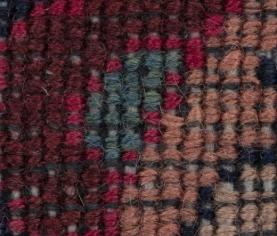Knot: (211, 204, 238, 223), (137, 145, 161, 164), (121, 16, 144, 35), (216, 145, 237, 164), (136, 168, 158, 186), (61, 146, 82, 164), (26, 20, 48, 37), (220, 48, 242, 65), (201, 16, 220, 35), (47, 16, 66, 35), (160, 127, 180, 145), (83, 41, 103, 59), (120, 105, 139, 123), (43, 91, 62, 109), (237, 128, 257, 145), (179, 145, 200, 161), (257, 127, 275, 145), (82, 168, 100, 186), (24, 57, 42, 75), (144, 52, 163, 69), (238, 164, 257, 181), (160, 166, 180, 182), (42, 130, 62, 146), (64, 75, 84, 91), (43, 59, 63, 75), (219, 75, 240, 90), (142, 90, 160, 107), (23, 76, 41, 93), (82, 189, 99, 207), (217, 164, 235, 181), (47, 39, 64, 57), (63, 93, 82, 109), (118, 207, 137, 223), (159, 207, 179, 222), (163, 17, 180, 34), (197, 168, 214, 185), (184, 124, 201, 141), (83, 130, 101, 146), (142, 71, 160, 87), (6, 196, 24, 212), (238, 204, 257, 219), (161, 183, 180, 198), (118, 134, 137, 149), (242, 19, 261, 34), (121, 90, 140, 105), (67, 23, 86, 38), (137, 187, 157, 201), (218, 189, 238, 203), (224, 16, 241, 32), (10, 21, 26, 38), (102, 21, 119, 37), (45, 111, 62, 127), (122, 71, 139, 87), (219, 128, 236, 144), (84, 111, 101, 127), (63, 212, 79, 229), (64, 112, 82, 127), (41, 219, 59, 234), (122, 56, 140, 71), (240, 34, 258, 49), (160, 146, 179, 160), (221, 35, 240, 49), (259, 107, 275, 123), (103, 75, 119, 91), (164, 53, 180, 69), (102, 187, 118, 203), (260, 204, 276, 220), (185, 86, 201, 102), (239, 89, 255, 105), (102, 130, 118, 146), (26, 166, 42, 182), (5, 107, 21, 123), (64, 130, 81, 145), (7, 219, 24, 234), (142, 127, 159, 142), (162, 94, 179, 109), (160, 112, 177, 127), (240, 108, 257, 123), (220, 90, 237, 105), (4, 175, 21, 190), (220, 108, 237, 123), (66, 53, 83, 68), (261, 69, 276, 86), (47, 75, 64, 90), (119, 186, 133, 204), (41, 189, 59, 203), (239, 220, 257, 234), (21, 111, 40, 124), (203, 107, 218, 123), (186, 69, 201, 85), (143, 111, 159, 126), (24, 94, 40, 109), (199, 149, 215, 164), (145, 16, 161, 31), (102, 149, 118, 164), (242, 53, 258, 68), (187, 52, 202, 68), (62, 196, 78, 211), (179, 207, 195, 222), (105, 37, 121, 52), (182, 1, 197, 17), (5, 123, 20, 139), (86, 60, 102, 75), (102, 112, 118, 127), (163, 35, 180, 49), (203, 35, 220, 49), (202, 127, 216, 144), (202, 89, 217, 104), (8, 57, 23, 72), (197, 186, 212, 201), (260, 149, 275, 164), (101, 211, 116, 226), (142, 208, 157, 223), (186, 105, 201, 120), (83, 212, 98, 227), (87, 94, 102, 109), (25, 197, 40, 212), (25, 219, 40, 234), (184, 35, 199, 50), (261, 54, 276, 69), (104, 57, 120, 71), (145, 35, 161, 49), (27, 38, 43, 52), (66, 1, 82, 15), (260, 35, 276, 49), (23, 126, 40, 139), (87, 76, 101, 91), (49, 1, 64, 15), (262, 89, 276, 104), (159, 223, 178, 234), (84, 148, 100, 161), (5, 155, 22, 167), (3, 141, 20, 153), (213, 225, 235, 234), (106, 171, 120, 185), (8, 38, 22, 52), (8, 75, 21, 90), (30, 1, 43, 16), (124, 37, 139, 50), (43, 203, 58, 216), (238, 148, 251, 163), (205, 53, 218, 68), (63, 170, 78, 183), (120, 149, 136, 161), (42, 149, 58, 161), (203, 72, 217, 85), (182, 171, 195, 185), (181, 187, 195, 200), (121, 172, 135, 185), (44, 164, 57, 178), (69, 37, 83, 50), (184, 19, 198, 32), (260, 166, 275, 178), (104, 93, 119, 105), (26, 152, 41, 164), (140, 223, 156, 234), (64, 183, 77, 196), (27, 183, 40, 196), (164, 72, 179, 83), (260, 190, 275, 201), (197, 223, 212, 234), (242, 190, 257, 201), (180, 223, 194, 234), (118, 225, 135, 234), (262, 178, 275, 189), (261, 226, 276, 234), (101, 226, 115, 234), (86, 227, 98, 234)
